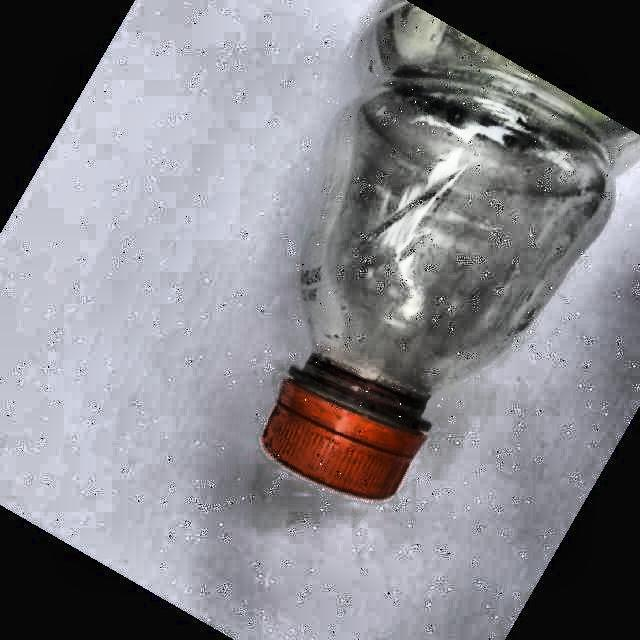plastic: (262, 0, 640, 499)
